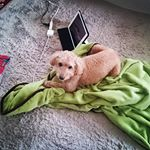puppy: (41, 43, 123, 93)
